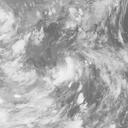cyclone: (47, 54, 84, 86)
